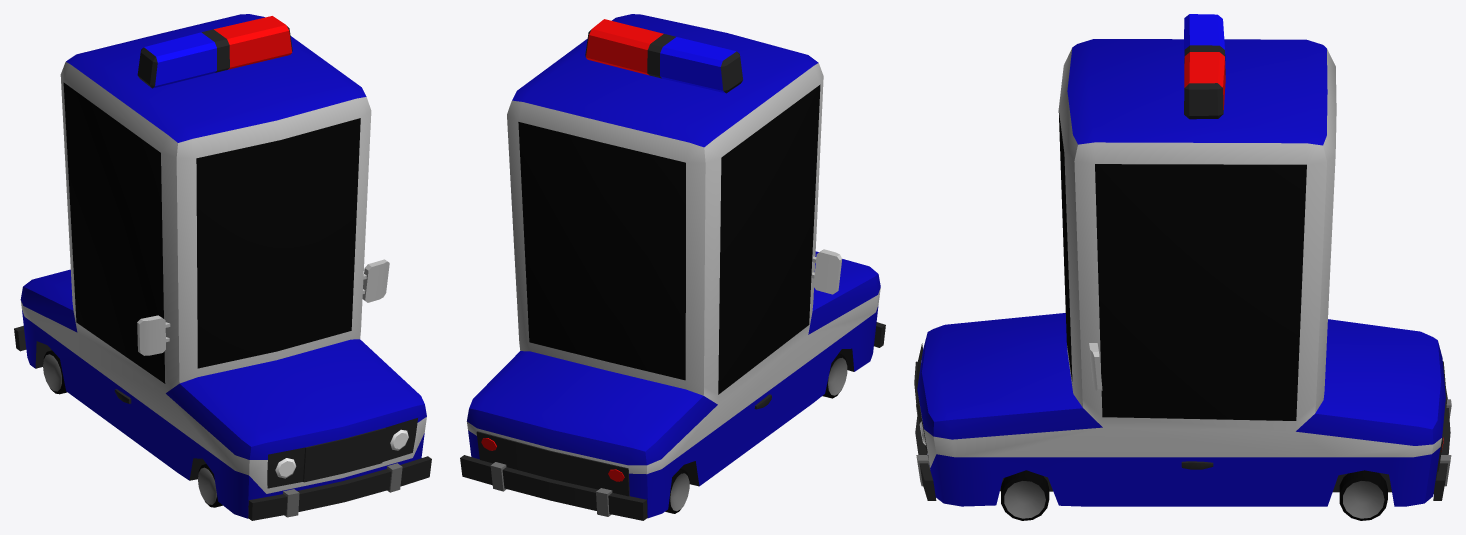
3 renders of one model, left to right at view 1: azimuth 30°, elevation 25°; view 2: azimuth 150°, elevation 25°; view 3: azimuth 270°, elevation 25°, orthographic. The views are drawn at different scales.
Visible parts, largest first — view 1: Cube, Cube.001, Cube.003, Cube.002, Cylinder.003, Cylinder.002; view 2: Cube, Cube.001, Cube.003, Cube.002, Cylinder.003, Cylinder.002; view 3: Cube, Cube.003, Cube.001, Cylinder.001, Cylinder.
Boxes of the visible parts, x1,y1,x2,y2 form: Cube: (20, 14, 426, 518); Cube.001: (14, 326, 431, 520); Cube.003: (137, 16, 292, 88); Cube.002: (137, 259, 389, 355); Cylinder.003: (43, 350, 67, 394); Cylinder.002: (198, 464, 222, 507); Cube: (466, 14, 880, 518); Cube.001: (460, 322, 885, 520); Cube.003: (585, 19, 742, 93); Cube.002: (811, 249, 842, 294); Cylinder.003: (665, 468, 689, 513); Cylinder.002: (822, 353, 847, 398); Cube: (917, 39, 1445, 506); Cube.003: (1184, 14, 1225, 119); Cube.001: (914, 343, 1451, 500); Cylinder.001: (1339, 470, 1387, 520); Cylinder: (1001, 470, 1049, 520).
Size of the model in its own units: 148 by 220 by 252.
Materials: 1 (1 with a texture image).
